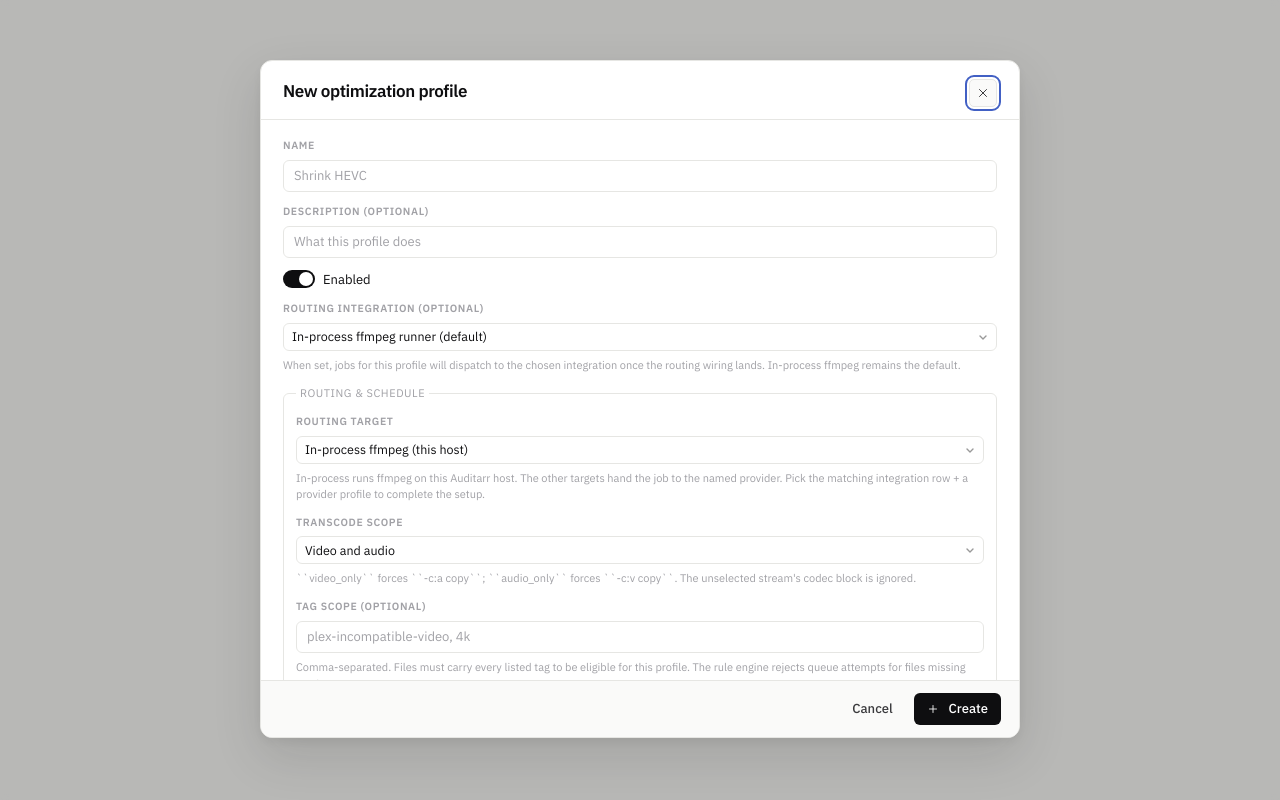
Test: Stage 08 — provider profile picker fetches and renders › renders an empty-state hint when the integration has no provider profiles
Step 1. Select "Jellyfin transcoder" in the dropdown with test id "routing-target-select" → (640, 450), box x1=296 y1=436 x2=984 y2=464
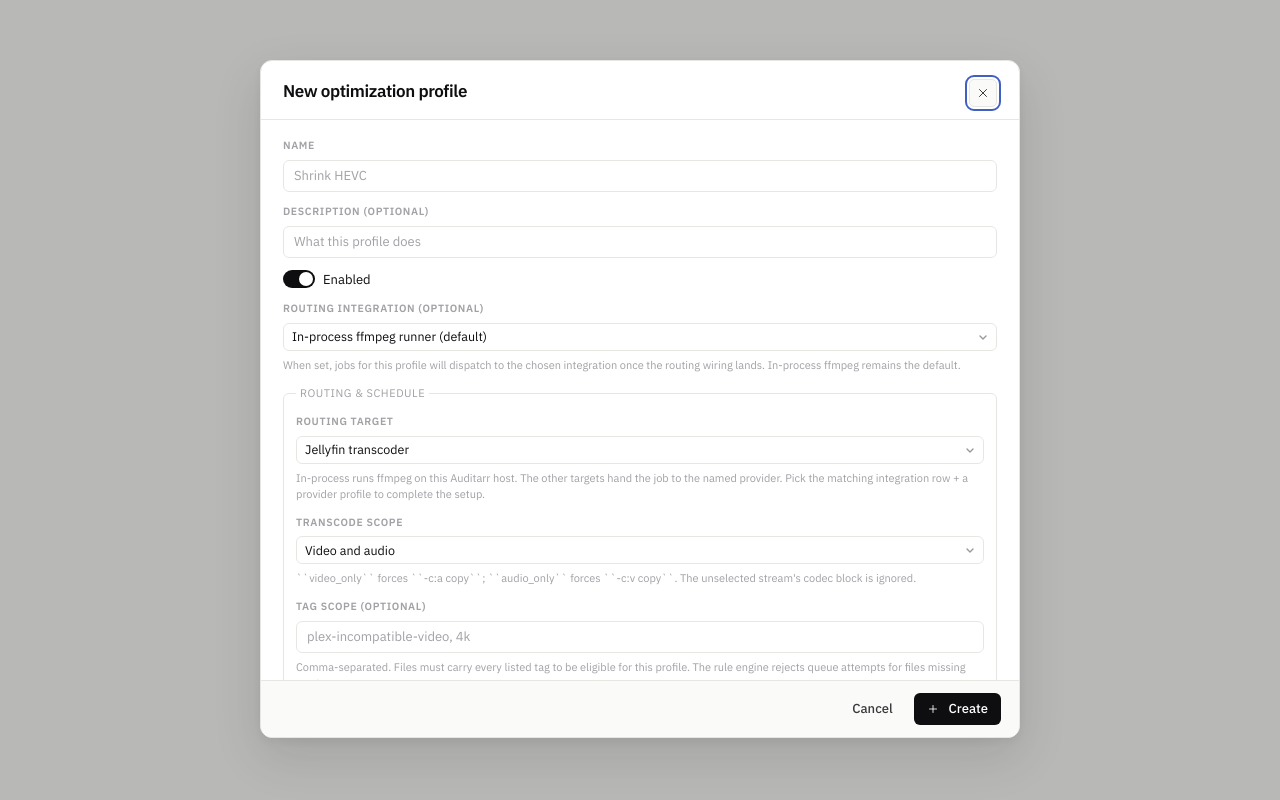
Step 2. Select "Jellyfin (jellyfin)" in the dropdown labelled "Routing integration" → (640, 337), box x1=283 y1=323 x2=997 y2=351
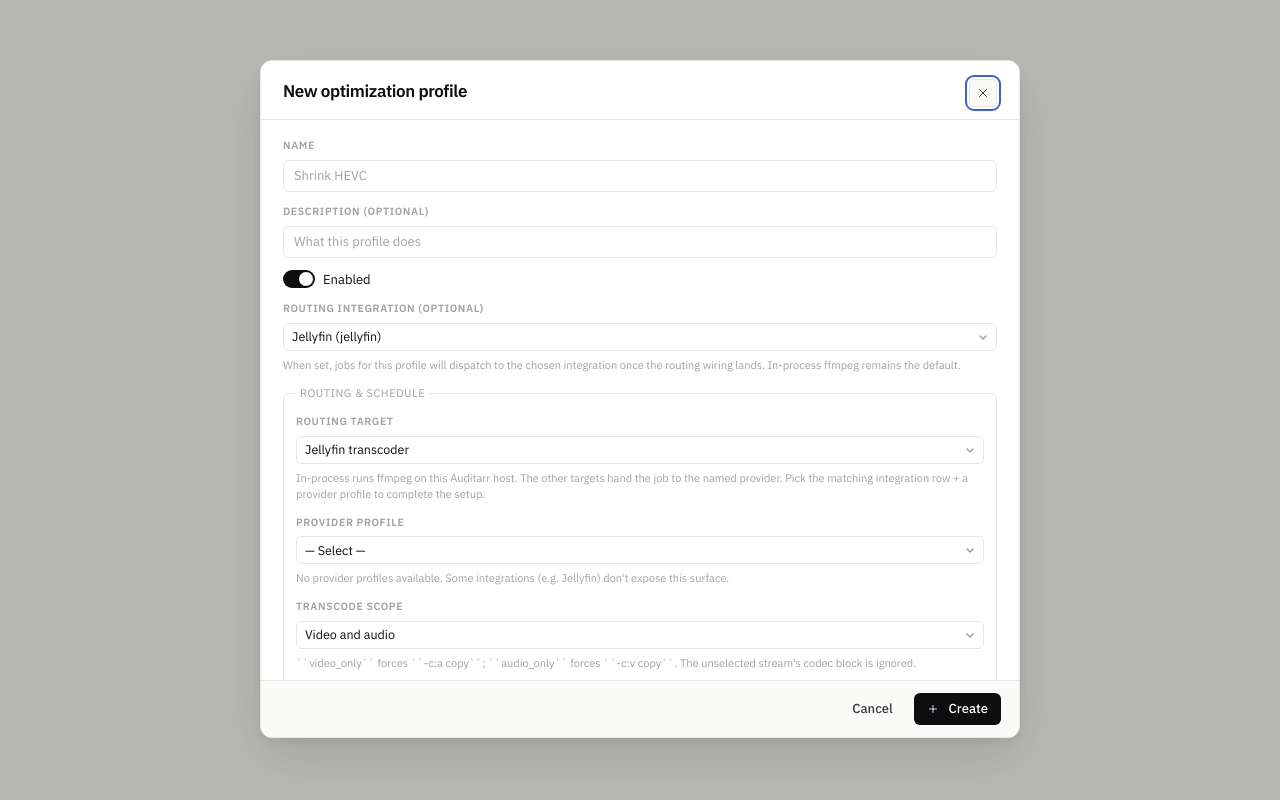
Expected: the dropdown with test id "provider-profile-select" is shown, x1=296 y1=536 x2=984 y2=564
Expected: the text "No provider profiles available" is shown, x1=296 y1=571 x2=729 y2=585
